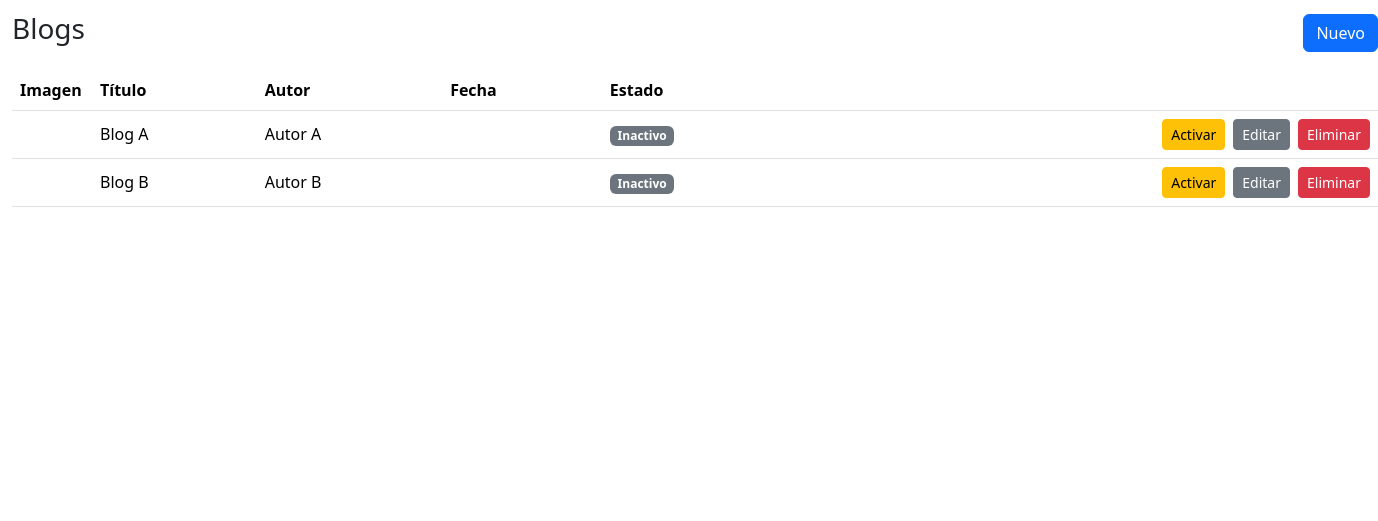
Scenario: AdminBlogs › lista blogs, crea y elimina
Check: the text "Blog A" is shown, box x1=92 y1=110 x2=257 y2=158
Check: the text "Blog B" is shown, box x1=92 y1=158 x2=257 y2=206
Click the link "Nuevo" at point(1341, 33), box x1=1303 y1=14 x2=1377 y2=52
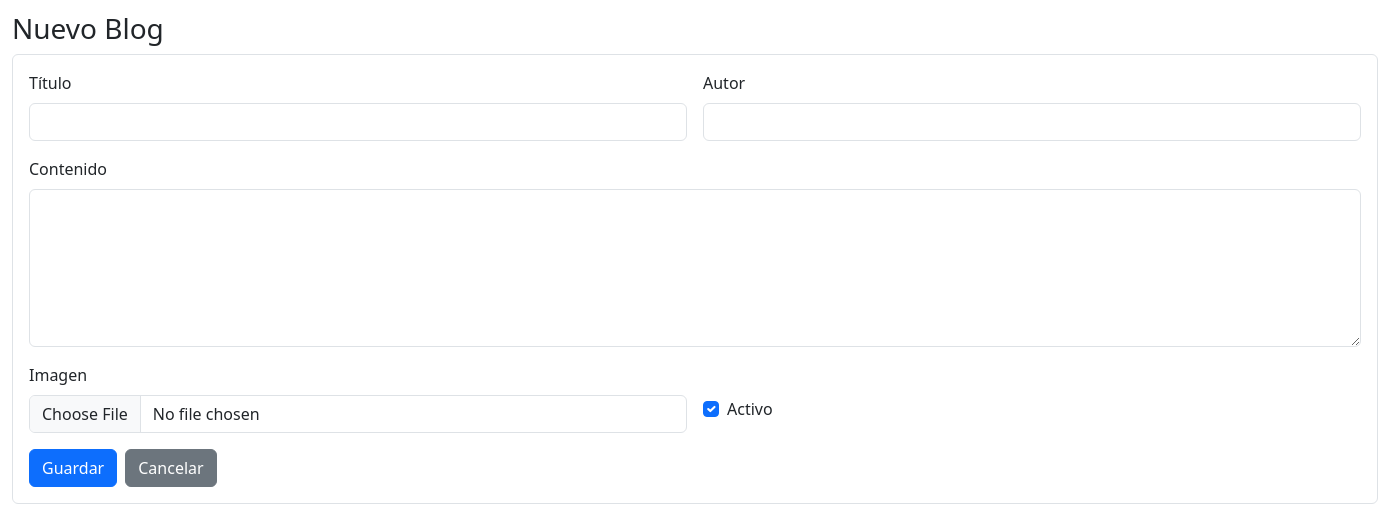
Type "Blog C" into the field labelled "Título" at point(358, 122), box x1=29 y1=103 x2=687 y2=141
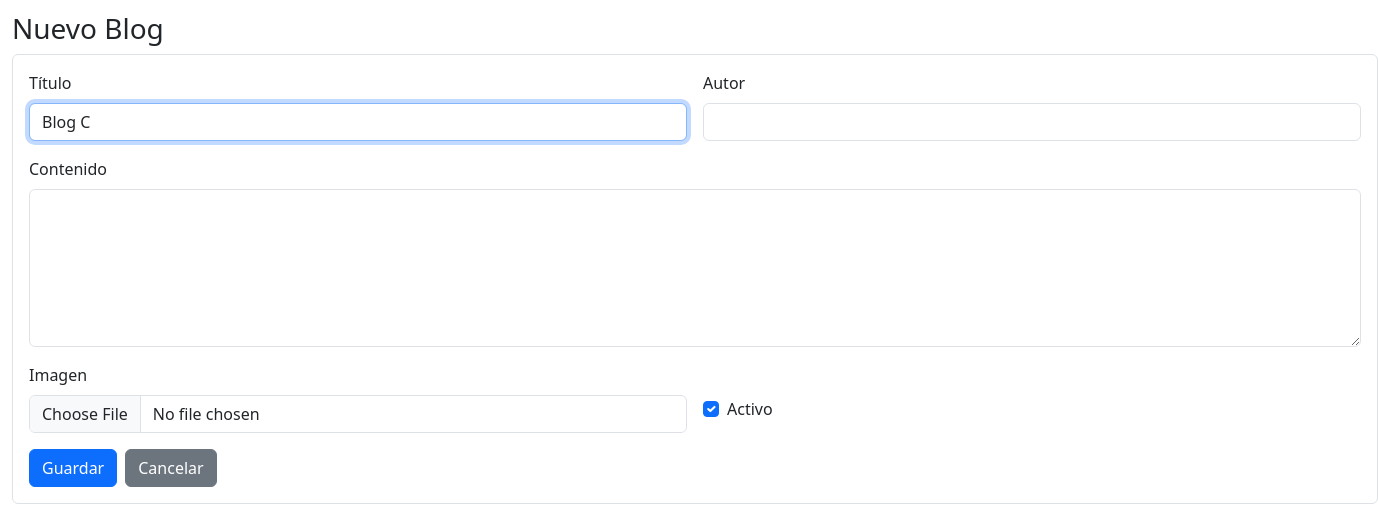
Type "Autor C" into the field labelled "Autor" at point(1032, 122), box x1=703 y1=103 x2=1361 y2=141
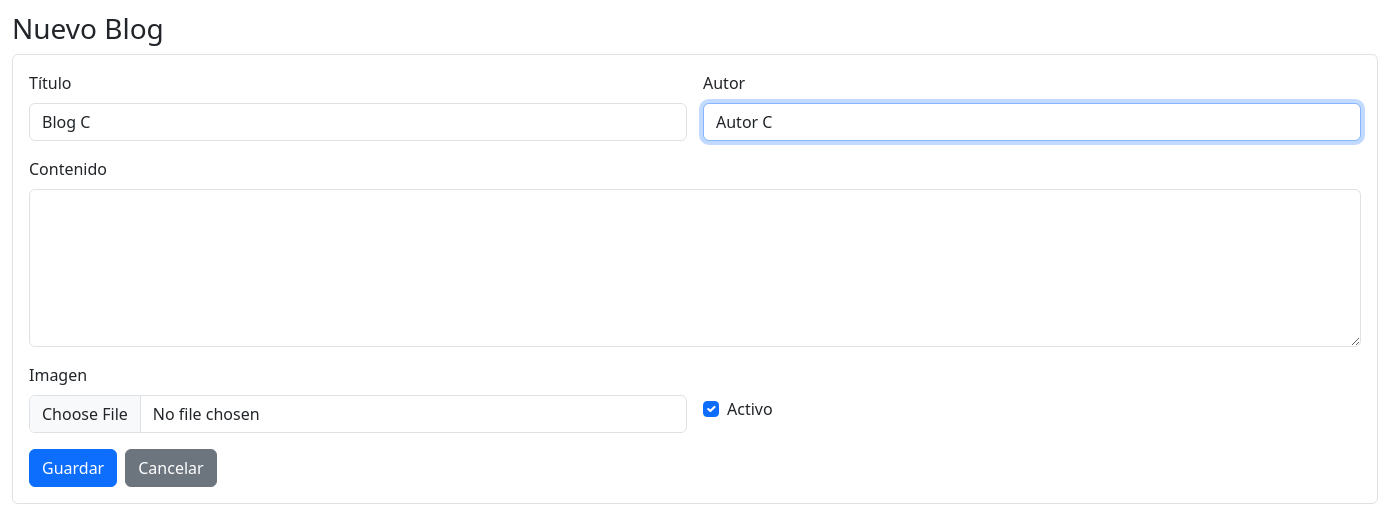
Type "Texto" into the text box labelled "Contenido" at point(695, 268), box x1=29 y1=189 x2=1361 y2=347
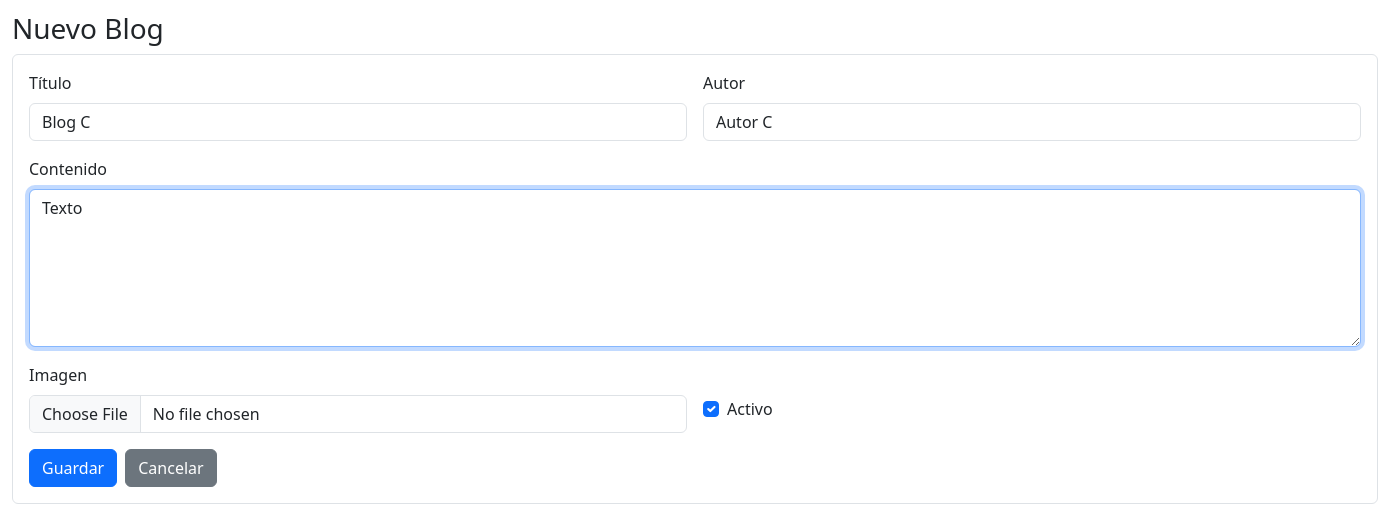
Click the button "Guardar" at point(73, 468), box x1=29 y1=449 x2=117 y2=487
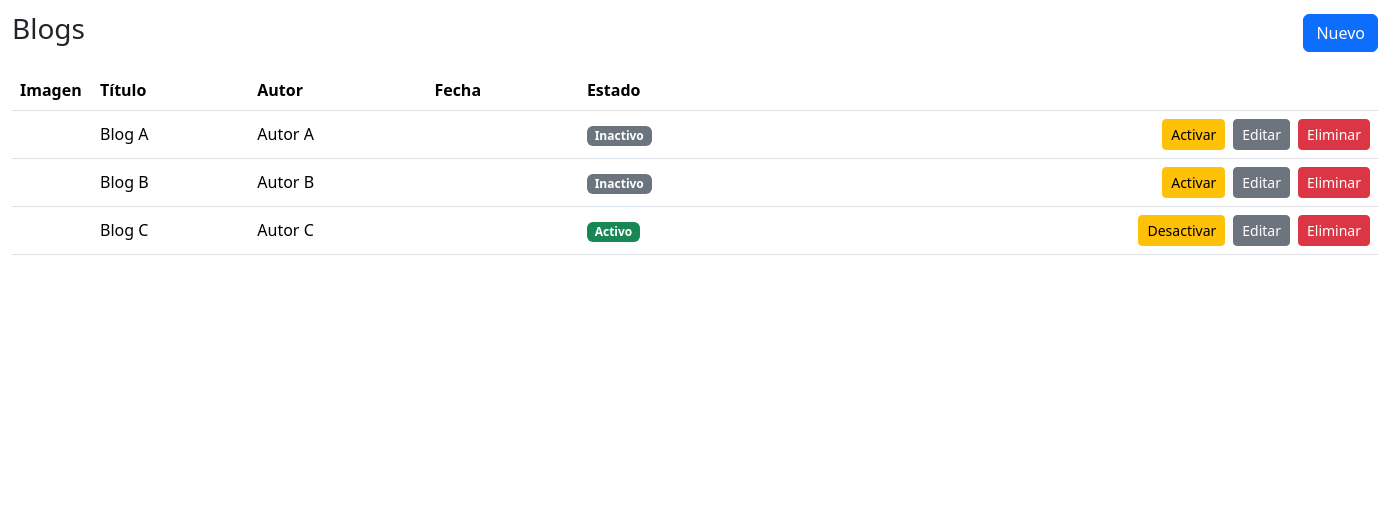
Check: the text "Blog C" is shown, box x1=92 y1=206 x2=249 y2=254
Click the button "Eliminar" in the row of "Blog A" at point(1334, 134), box x1=1298 y1=119 x2=1370 y2=150
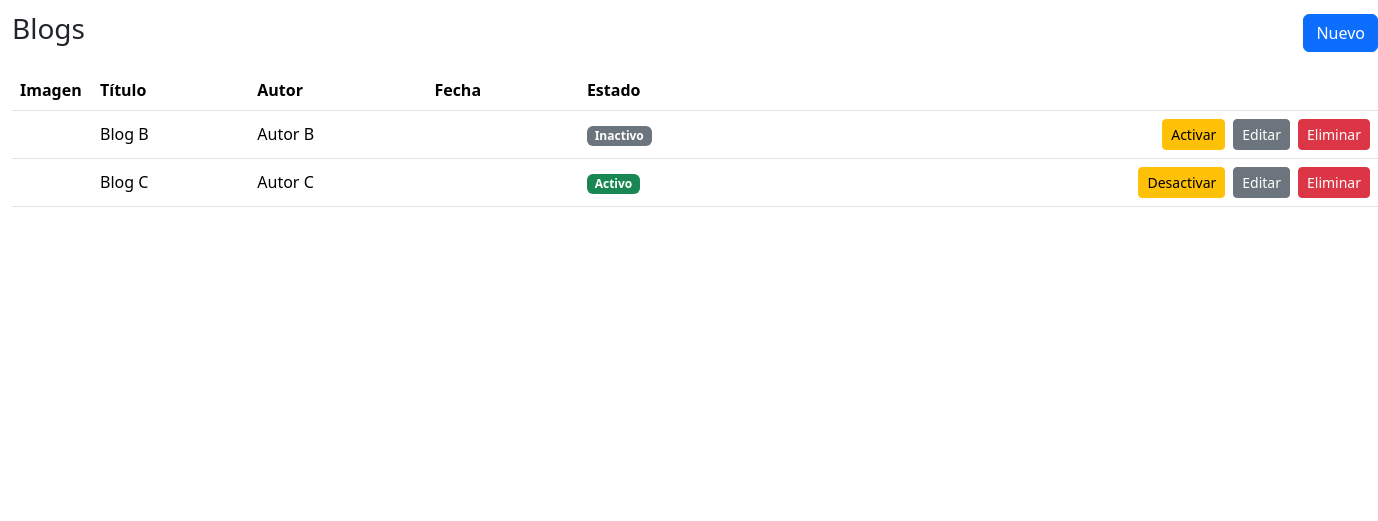
Check: the text "Blog B" is shown, box x1=92 y1=110 x2=249 y2=158
Check: the text "Blog A" is gone
